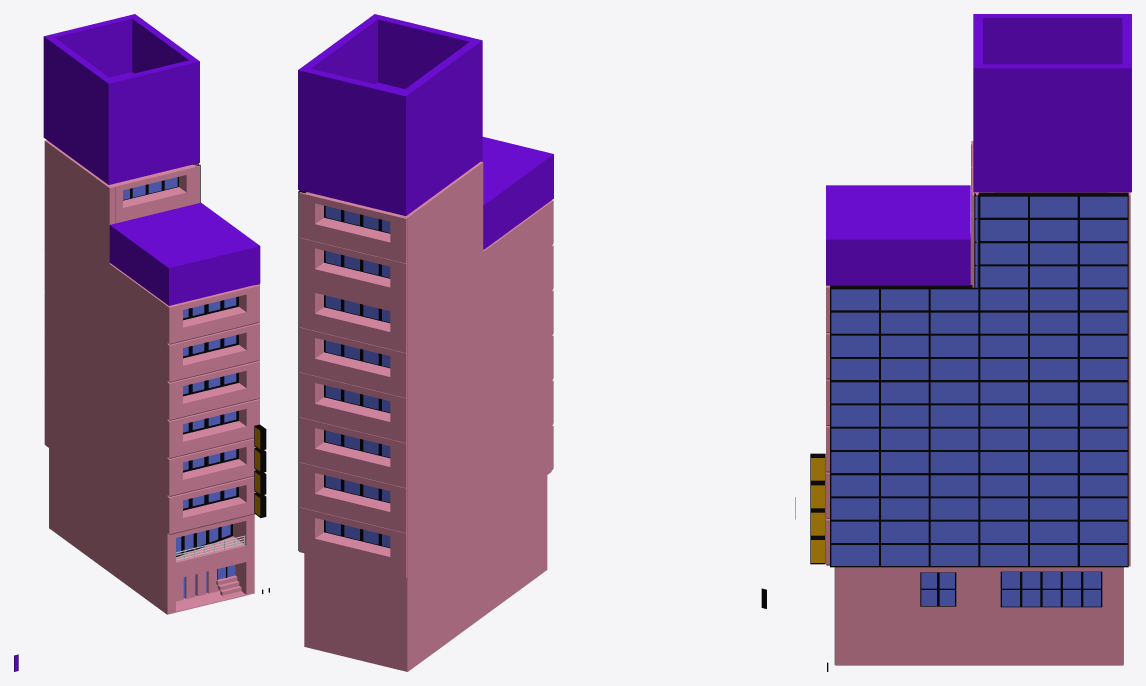
Rendered from sundai_yokonobil.fbx.
3 views of the same model, side by side, from view 1: azimuth 30°, elevation 25°; view 2: azimuth 150°, elevation 25°; view 3: azimuth 270°, elevation 25° (orthographic). The views are drawn at different scales.
Visible parts, largest first — view 1: 立方体.002, 立方体.003, 立方体, 立方体.001, 立方体.004, 立方体.005, 立方体.006, 立方体.012, 立方体.008; view 2: 立方体.002, 立方体.003, 立方体, 立方体.004, 立方体.001; view 3: 立方体.002, 立方体, 立方体.003, 立方体.004, 立方体.001, 立方体.005.
Part boxes in pixels (x1=…): 立方体.002: x1=44, y1=217, x2=259, y2=534; 立方体.003: x1=43, y1=14, x2=199, y2=184; 立方体: x1=49, y1=448, x2=254, y2=614; 立方体.001: x1=109, y1=202, x2=260, y2=305; 立方体.004: x1=44, y1=140, x2=200, y2=263; 立方体.005: x1=254, y1=424, x2=266, y2=517; 立方体.006: x1=176, y1=565, x2=235, y2=601; 立方体.012: x1=176, y1=535, x2=245, y2=560; 立方体.008: x1=216, y1=575, x2=243, y2=600; 立方体.002: x1=298, y1=200, x2=553, y2=577; 立方体.003: x1=298, y1=14, x2=482, y2=215; 立方体: x1=304, y1=475, x2=547, y2=671; 立方体.004: x1=298, y1=161, x2=483, y2=308; 立方体.001: x1=481, y1=137, x2=553, y2=249; 立方体.002: x1=826, y1=233, x2=1130, y2=567; 立方体: x1=834, y1=567, x2=1123, y2=665; 立方体.003: x1=973, y1=14, x2=1131, y2=192; 立方体.004: x1=971, y1=141, x2=1130, y2=288; 立方体.001: x1=826, y1=185, x2=970, y2=285; 立方体.005: x1=810, y1=453, x2=825, y2=564.
Size of the model in its own units: 2422 by 4254 by 2153.
